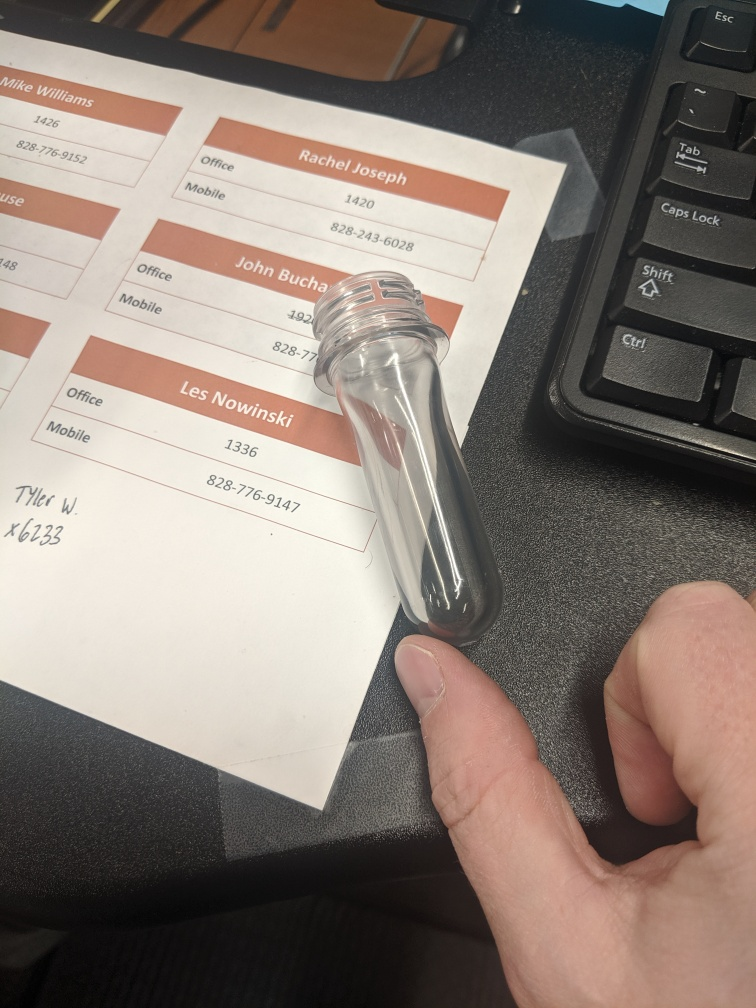preform: (303, 261, 519, 658)
